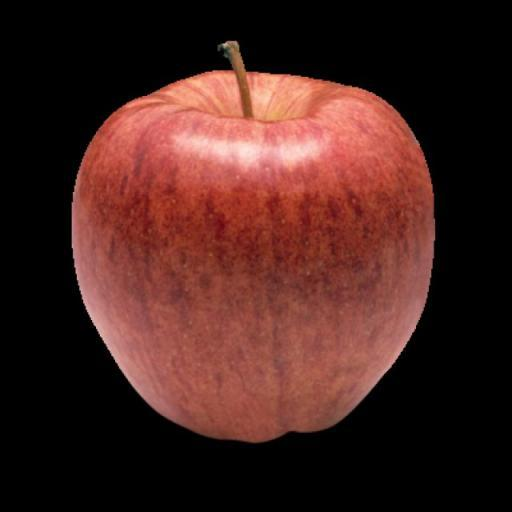fruit: (73, 44, 432, 440)
